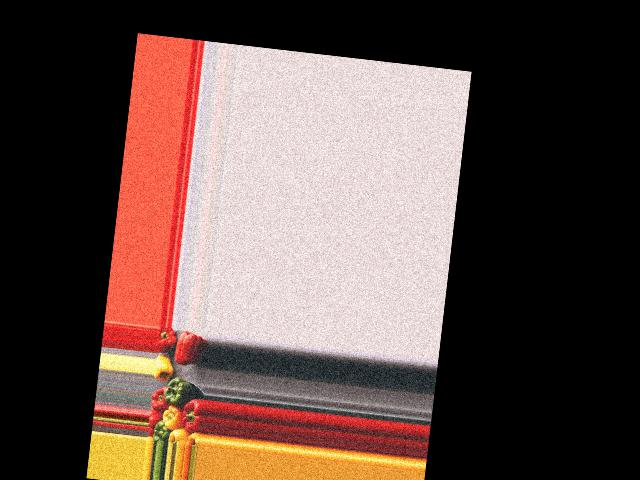bell_pepper: (158, 325, 177, 354)
